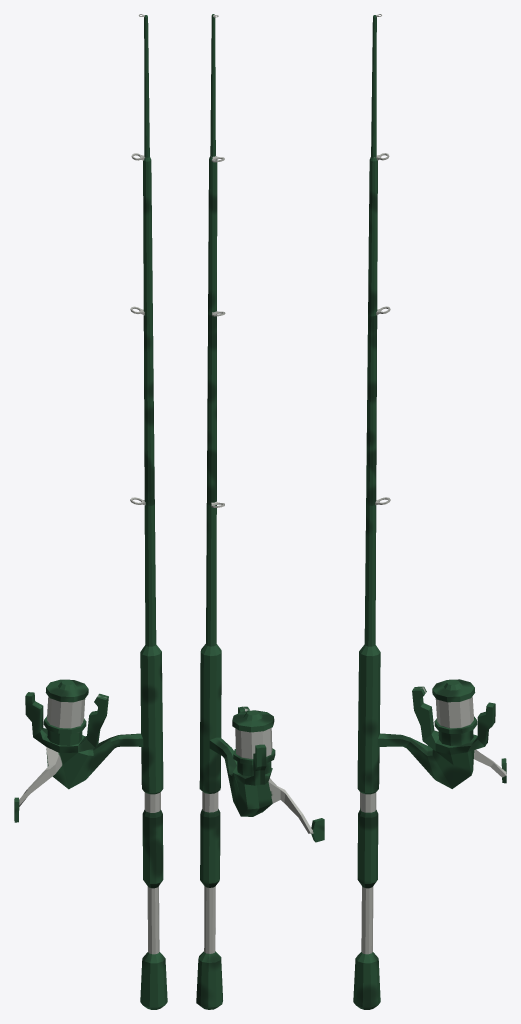
File: FishingRod.fbx
The picture shows the model from 3 angles, left to right: view 1: azimuth 90°, elevation 25°; view 2: azimuth 210°, elevation 25°; view 3: azimuth 270°, elevation 25°; orthographic projection.
Parts seen in each view (by area): view 1: Fishing Rod; view 2: Fishing Rod; view 3: Fishing Rod.
Boxes of the visible parts, x1,y1,x2,y2 form: Fishing Rod: (14,14,167,1009); Fishing Rod: (196,14,324,1009); Fishing Rod: (353,14,506,1009).
Size of the model in its own units: 47.63 by 713 by 100.
